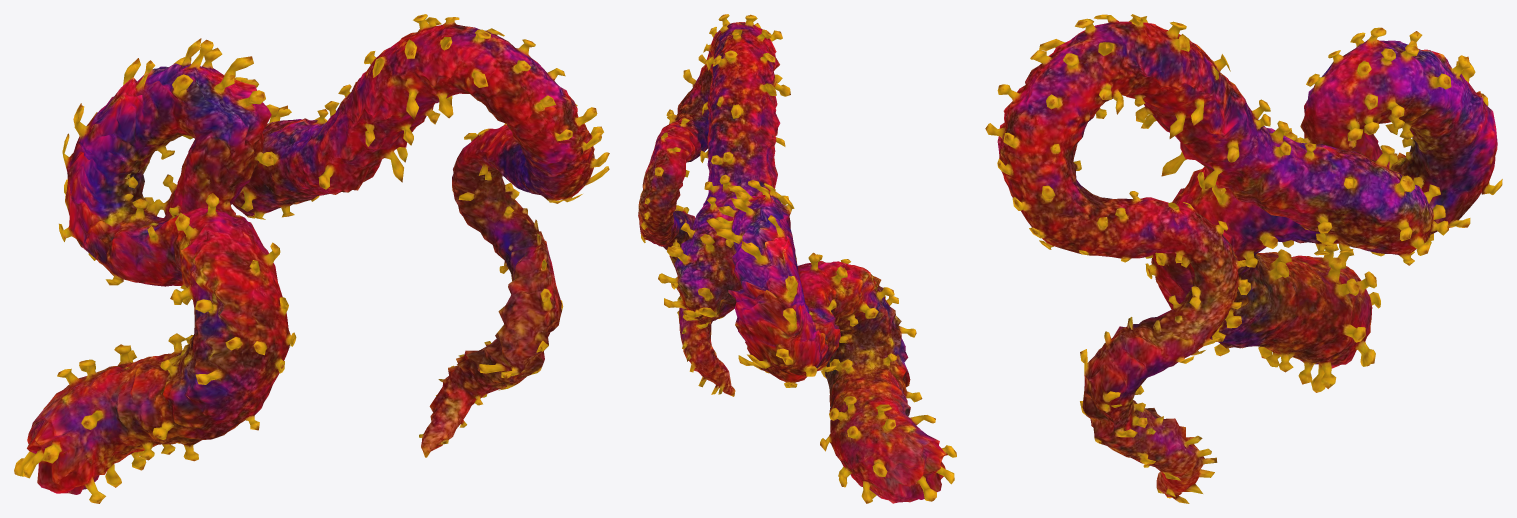
File: filovirus.glb
3 renders of one model, left to right at view 1: azimuth 30°, elevation 25°; view 2: azimuth 150°, elevation 25°; view 3: azimuth 270°, elevation 25°, orthographic. The views are drawn at different scales.
Visible parts, largest first — view 1: attack-membrane; view 2: attack-membrane; view 3: attack-membrane.
Part boxes in pixels (x1,y1,x2,y2): attack-membrane: (14,14,609,503); attack-membrane: (638,14,956,503); attack-membrane: (985,14,1502,503).
Size of the model in its own units: 2.04 by 1.99 by 1.83.
Materials: 1 (1 with a texture image).
